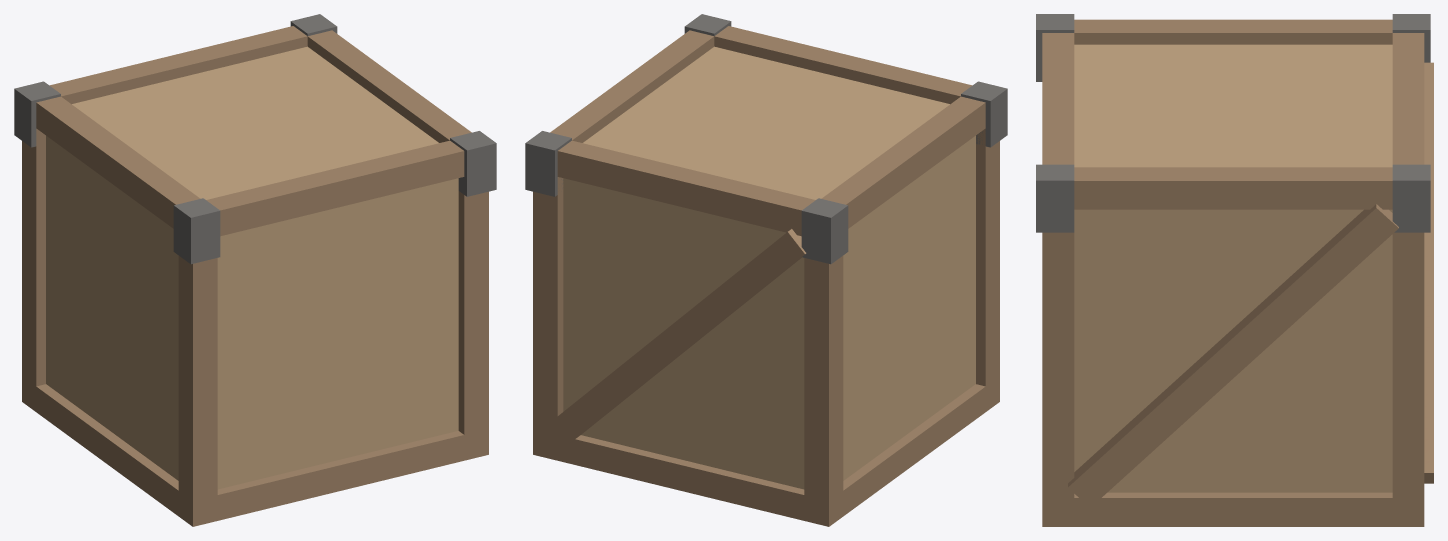
Rendered from prop-crate-wood-closed.fbx.
3 views of the same model, side by side, from view 1: azimuth 30°, elevation 25°; view 2: azimuth 150°, elevation 25°; view 3: azimuth 270°, elevation 25° (orthographic). The views are drawn at different scales.
Parts seen in each view (by area): view 1: prop-crate-wood-closed; view 2: prop-crate-wood-closed; view 3: prop-crate-wood-closed.
Boxes of the visible parts, left/top/right/bottom form: prop-crate-wood-closed: left=14, top=14, right=496, bottom=526; prop-crate-wood-closed: left=525, top=14, right=1007, bottom=526; prop-crate-wood-closed: left=1036, top=14, right=1433, bottom=526.
Size of the model in its own units: 0.625 by 0.605 by 0.625.
